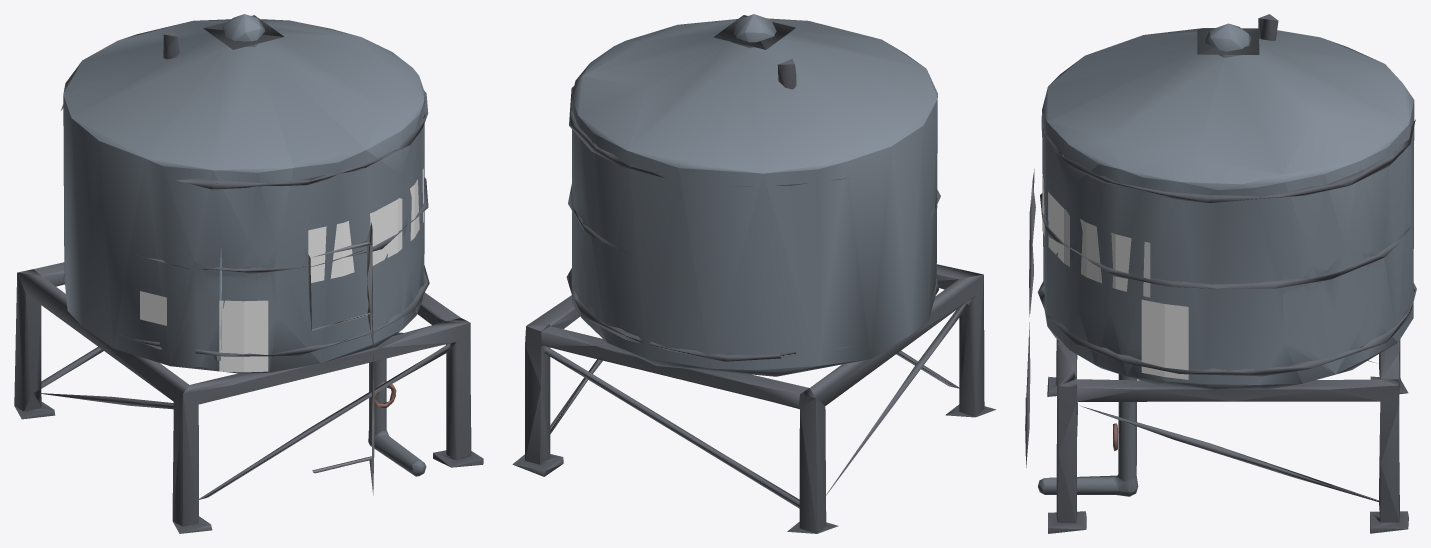
File: reservoir_haut.glb
3 views of the same model, side by side, from view 1: azimuth 30°, elevation 25°; view 2: azimuth 150°, elevation 25°; view 3: azimuth 270°, elevation 25° (orthographic). The views are drawn at different scales.
Visible parts, largest first — view 1: reservoir_haut, reservoir_haut_decal; view 2: reservoir_haut; view 3: reservoir_haut, reservoir_haut_decal.
Boxes of the visible parts, left/top/right/bottom form: reservoir_haut: left=14, top=14, right=483, bottom=533; reservoir_haut_decal: left=140, top=168, right=423, bottom=372; reservoir_haut: left=512, top=14, right=995, bottom=533; reservoir_haut: left=1025, top=14, right=1416, bottom=533; reservoir_haut_decal: left=1042, top=176, right=1188, bottom=379.
Bounding box in the file's own units: 1.87 × 2.38 × 1.94.
